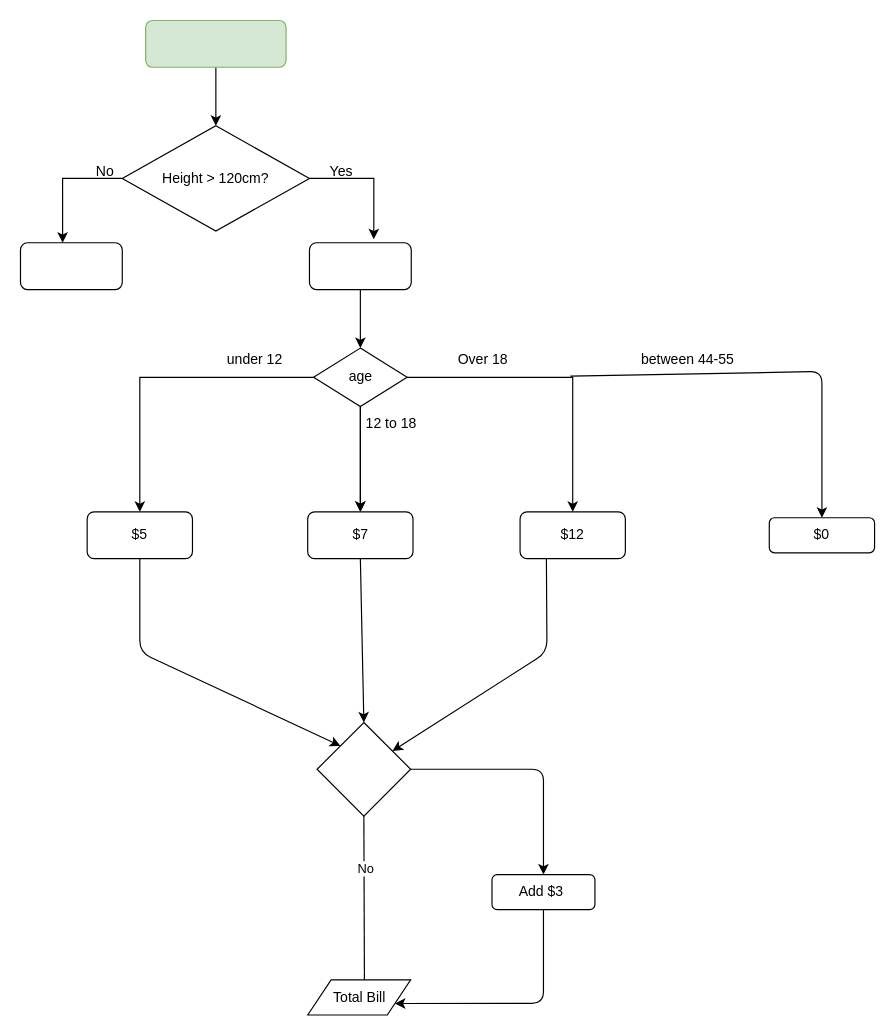
Some shapes in this 895 by 1035 pixel diagram are drawn without their labels. Each missing label, with the box of its shape:
Can ride: (308, 242, 411, 290)
Can't ride: (19, 242, 122, 290)
Start: (144, 19, 286, 67)
want a photo: (316, 721, 411, 816)
